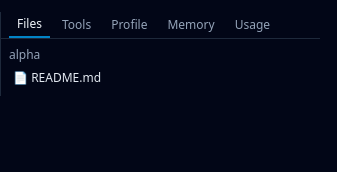
Test case: AgentSidePanel › [08-agent-mode#8.4] the Tools tab lists exactly the resolved tools, with danger badges
Click the tab "tools" at (76, 25), box [54,12,99,38]
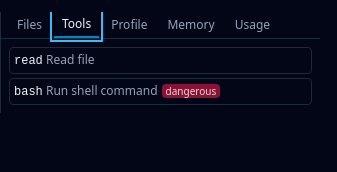
Expected: the number of list items is 2, [9,47,312,74]; [9,78,312,105]
Expected: the list item "read Read file" is shown, [9,47,312,74]
Expected: the list item that starts with "bash" is shown, [14,85,43,99]
